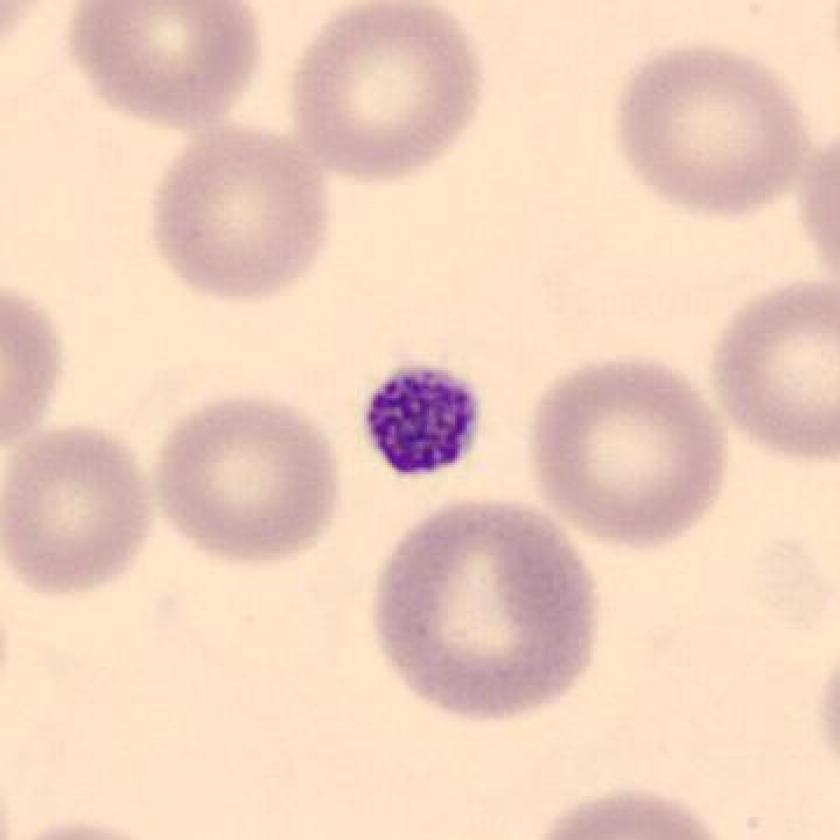platelets: (354, 355, 501, 492)
